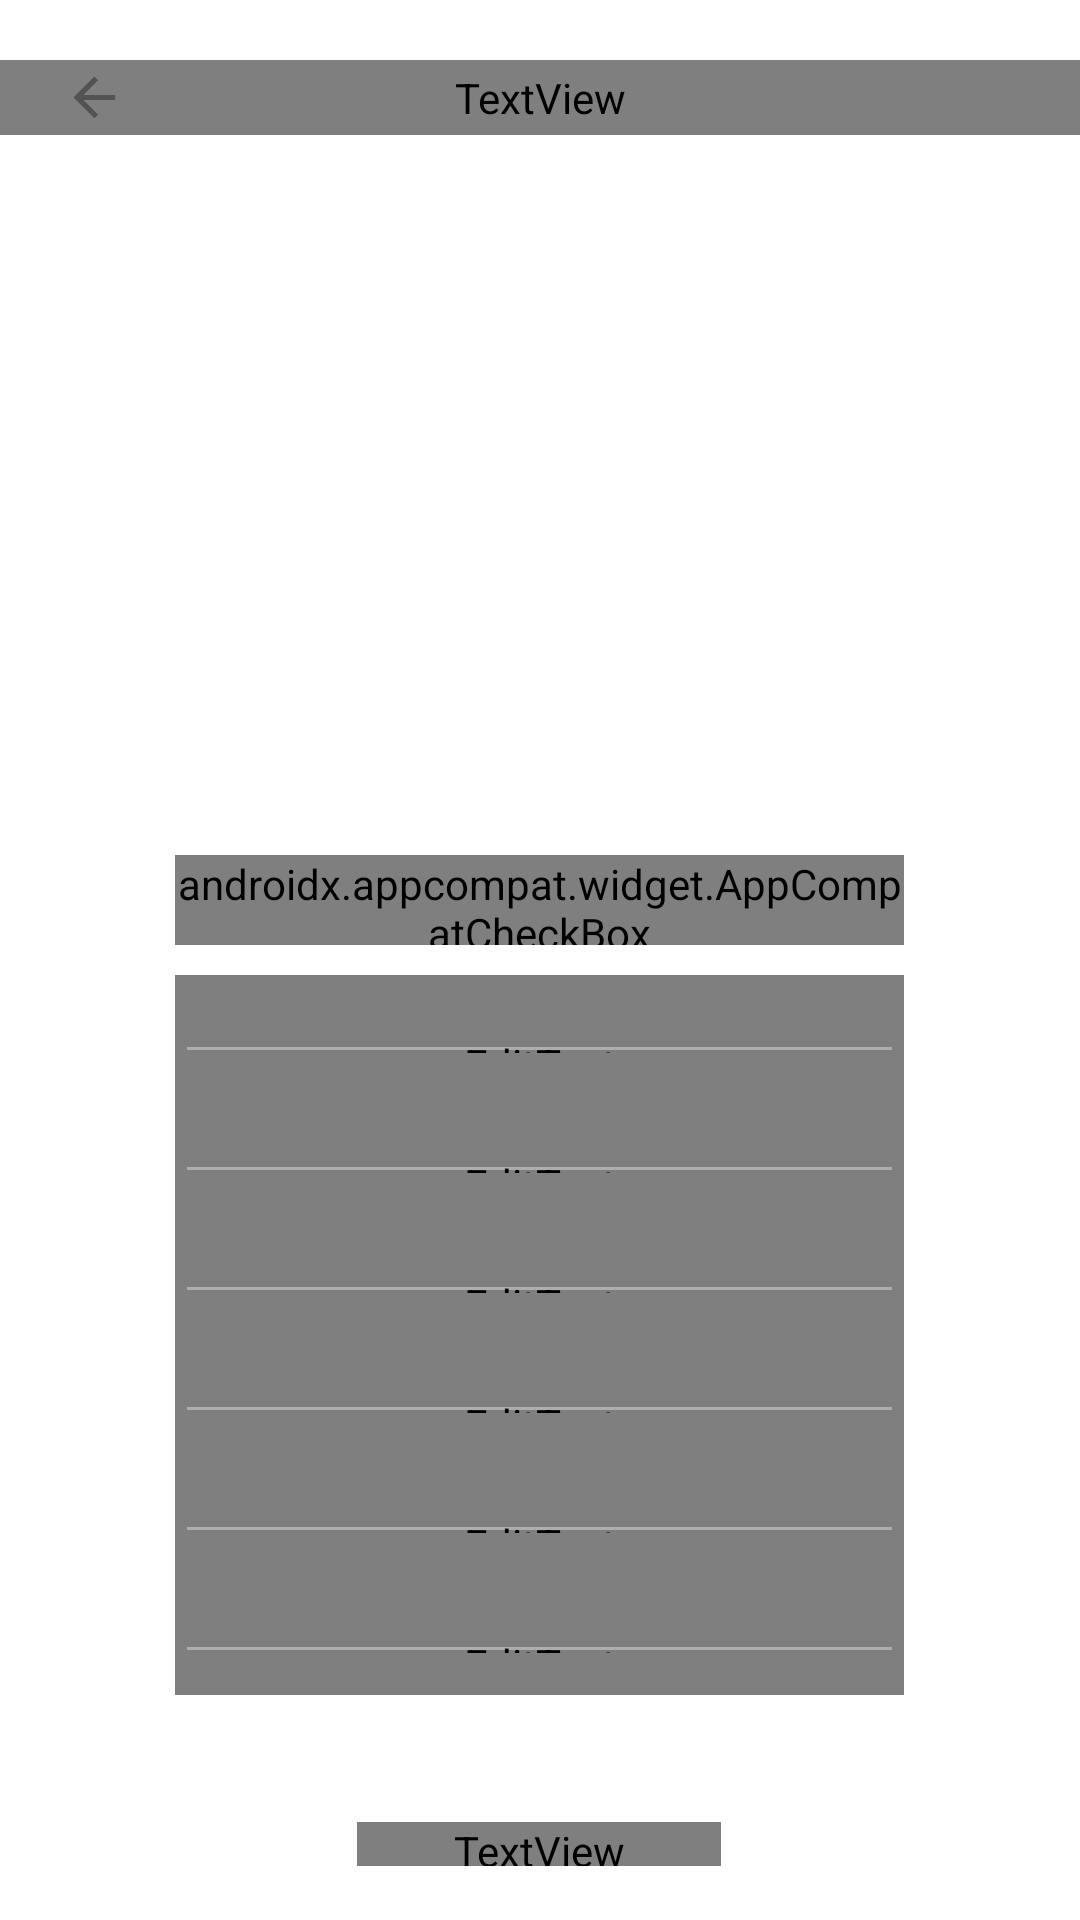

Where to tap for icons on this 1080w x 1920h app screen, as (x,y):
back arrow: (94,97)
